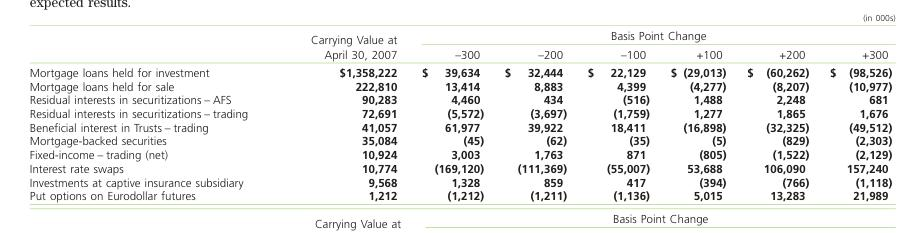table: (28, 28, 891, 201)
table column: (28, 28, 278, 201), (278, 28, 408, 201), (408, 28, 493, 201), (493, 28, 576, 201), (576, 28, 659, 201), (735, 28, 818, 201), (659, 28, 735, 201), (818, 28, 891, 201)
table column header: (28, 28, 891, 62)
table row: (28, 44, 891, 62), (28, 28, 891, 44), (28, 62, 891, 78), (28, 78, 891, 92), (28, 92, 891, 106), (28, 119, 891, 133), (28, 133, 891, 147), (28, 160, 891, 174), (28, 174, 891, 188), (28, 106, 891, 119), (28, 147, 891, 160), (28, 188, 891, 201)
table spanning cell: (408, 28, 891, 44), (278, 28, 408, 62)
